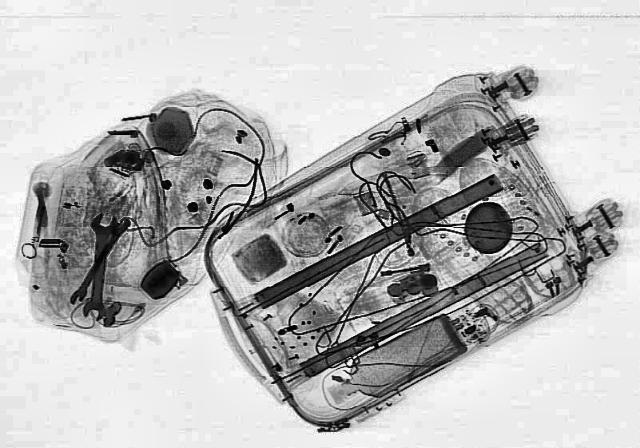Wrench: (65, 216, 135, 304), (78, 212, 118, 320)
